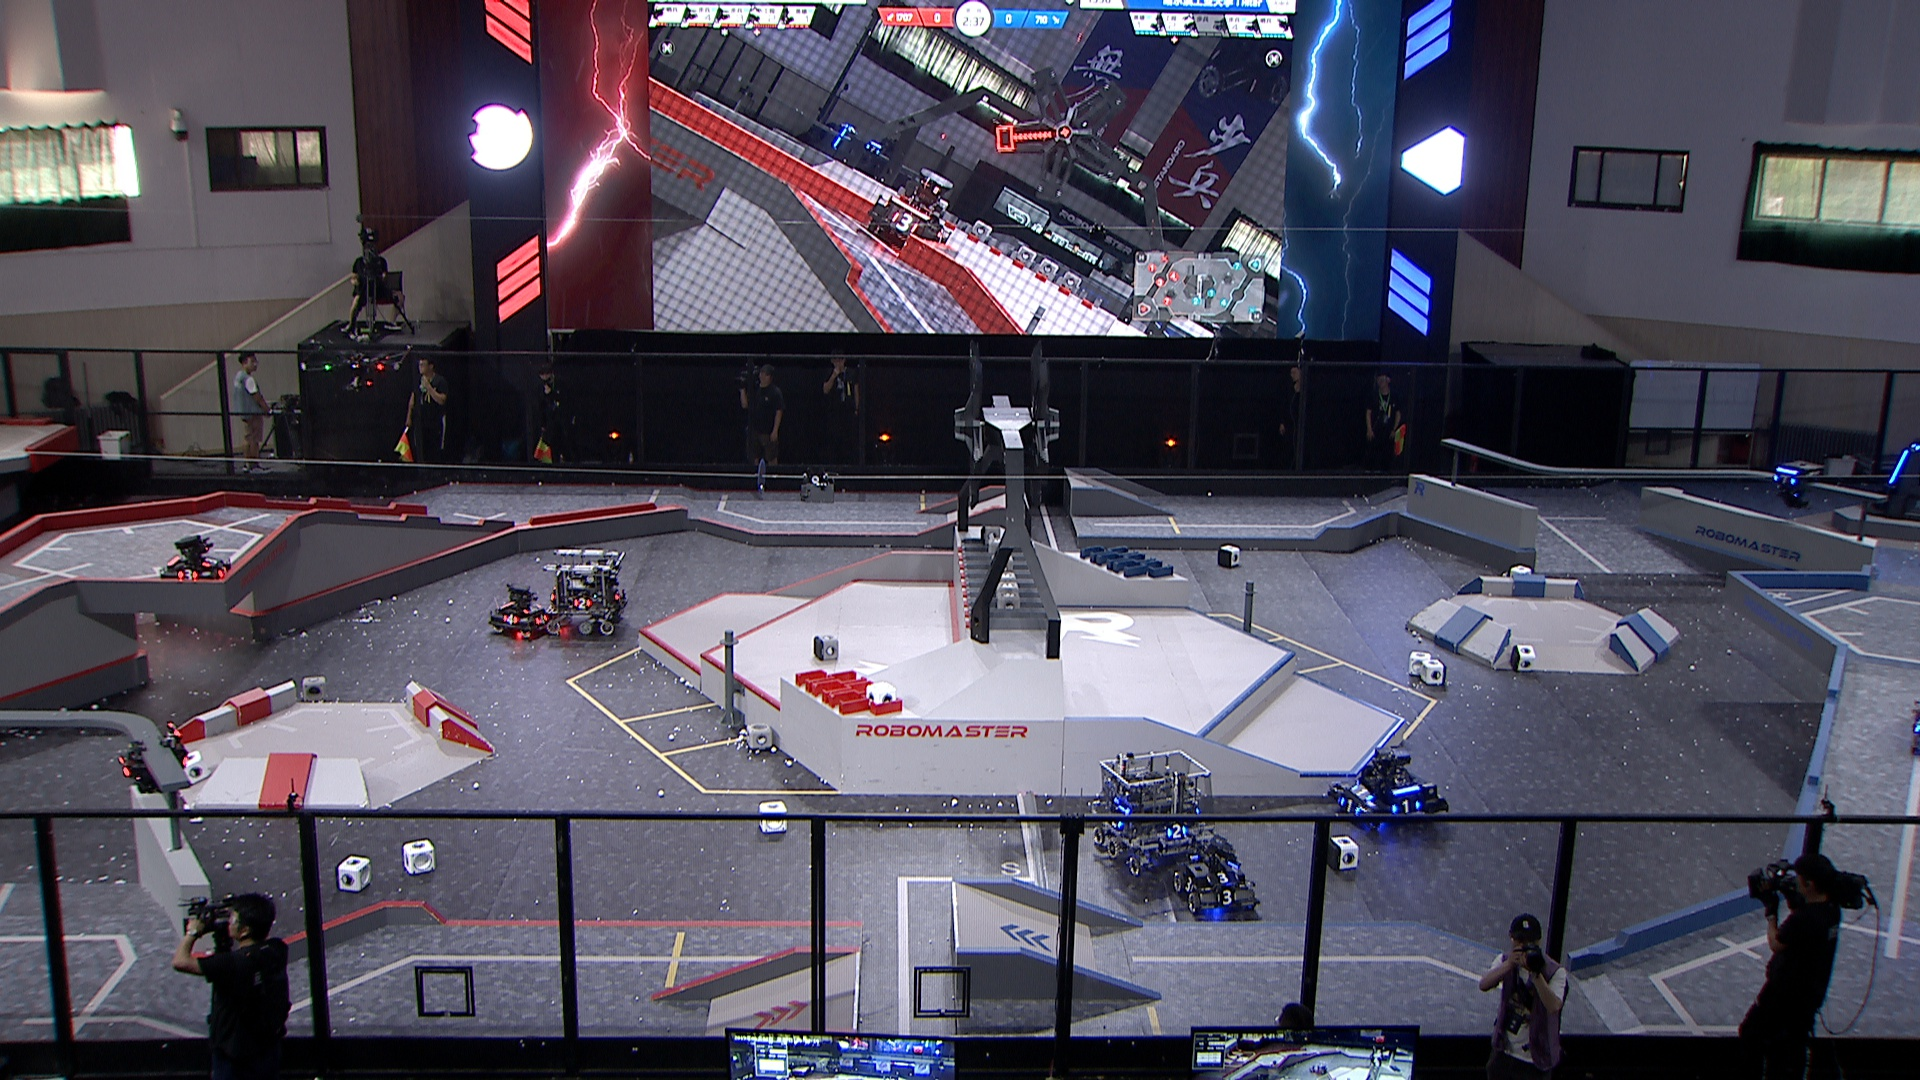armor: (1888, 447, 1912, 485), (1389, 799, 1422, 816), (1205, 869, 1240, 885), (1338, 796, 1364, 816), (1771, 472, 1799, 489), (1215, 889, 1240, 907), (1164, 823, 1191, 840), (1349, 785, 1375, 802), (116, 756, 133, 778), (175, 568, 200, 580), (200, 555, 220, 570), (522, 603, 546, 615), (572, 597, 593, 611), (218, 562, 233, 579), (501, 612, 520, 626), (1183, 876, 1195, 895), (534, 613, 551, 626)
base: (1866, 440, 1920, 524)
car: (1093, 746, 1218, 876), (1329, 745, 1447, 832), (541, 546, 626, 640), (1172, 831, 1261, 916), (487, 582, 555, 645), (160, 534, 235, 589)
ignore: (869, 167, 953, 252), (800, 120, 855, 167), (858, 140, 887, 167)
watcher: (115, 721, 193, 796), (1771, 458, 1825, 508)
